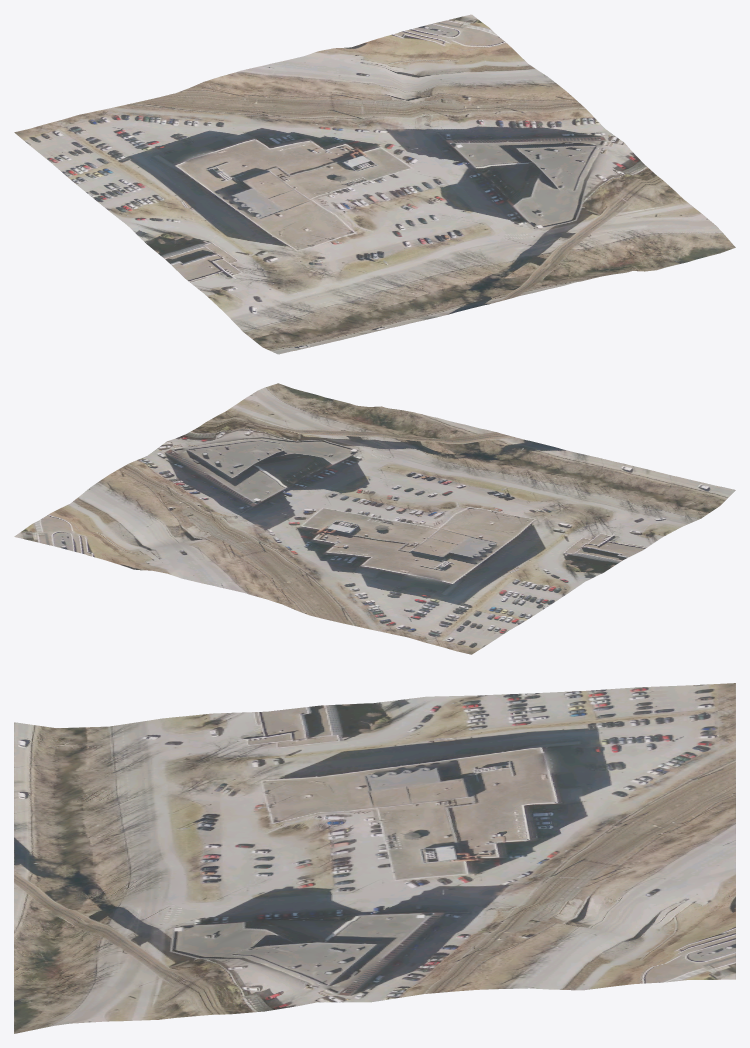
Rendered from CM_Terrain_24488001_6820204.fbx.
3 views of the same model, one above another, from view 1: azimuth 30°, elevation 25°; view 2: azimuth 150°, elevation 25°; view 3: azimuth 270°, elevation 25° (orthographic). The views are drawn at different scales.
Parts seen in each view (by area): view 1: CM_Terrain_24488001_6820204_LOD0; view 2: CM_Terrain_24488001_6820204_LOD0; view 3: CM_Terrain_24488001_6820204_LOD0.
Boxes of the visible parts, x1=… form: CM_Terrain_24488001_6820204_LOD0: x1=14, y1=14, x2=735, y2=354; CM_Terrain_24488001_6820204_LOD0: x1=14, y1=383, x2=735, y2=654; CM_Terrain_24488001_6820204_LOD0: x1=14, y1=683, x2=735, y2=1033.
Size of what is drawn, in the model's own units: 205 by 18.83 by 205.
